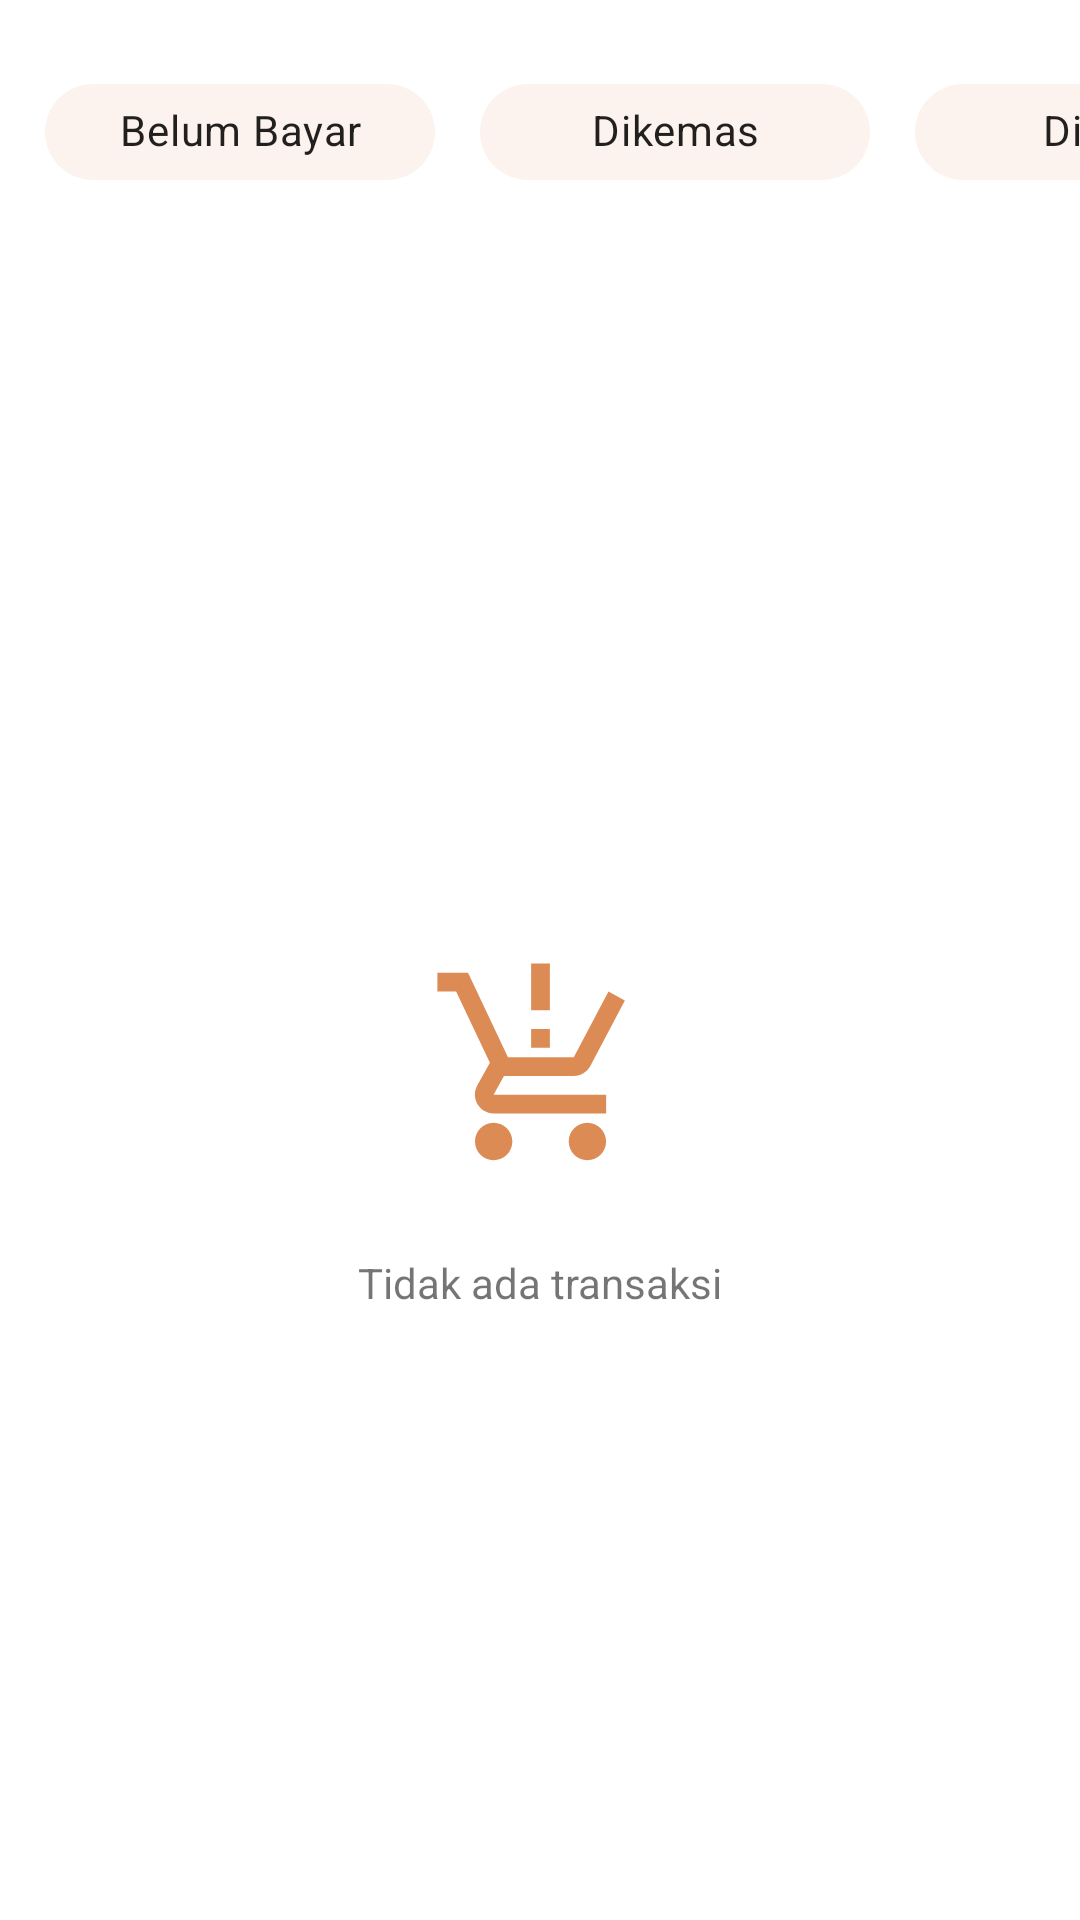

Point at icon controls on the screen. Image size 1080 x 1920, points as (x,y).
production quantity limits: (531,1062)
